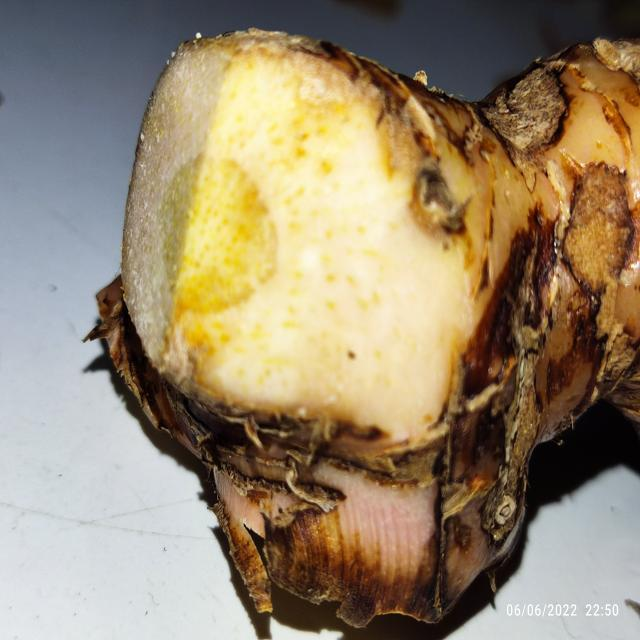ginger: (98, 16, 640, 640)
